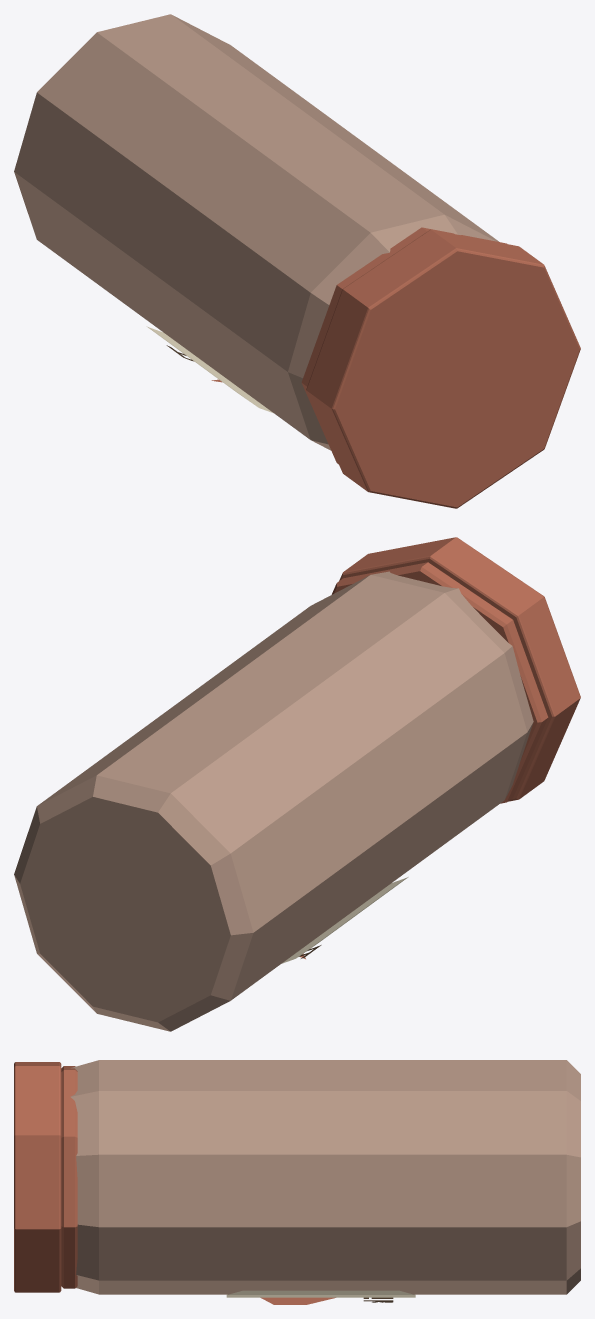
Rendered from paprika.glb.
The picture shows the model from 3 angles, top to bottom: view 1: azimuth 30°, elevation 25°; view 2: azimuth 150°, elevation 25°; view 3: azimuth 270°, elevation 25°; orthographic projection. The views are drawn at different scales.
Parts seen in each view (by area): view 1: paprika; view 2: paprika; view 3: paprika.
Part boxes in pixels (bbox=[...]): paprika: bbox=[14, 14, 580, 508]; paprika: bbox=[14, 537, 580, 1031]; paprika: bbox=[14, 1060, 580, 1304].
Size of the model in its own units: 0.052 by 0.053 by 0.12.
